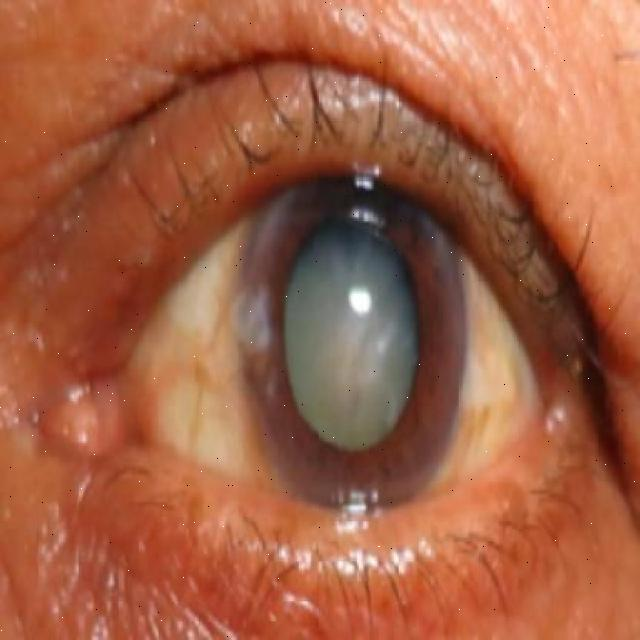Cataract: (239, 160, 465, 506)
